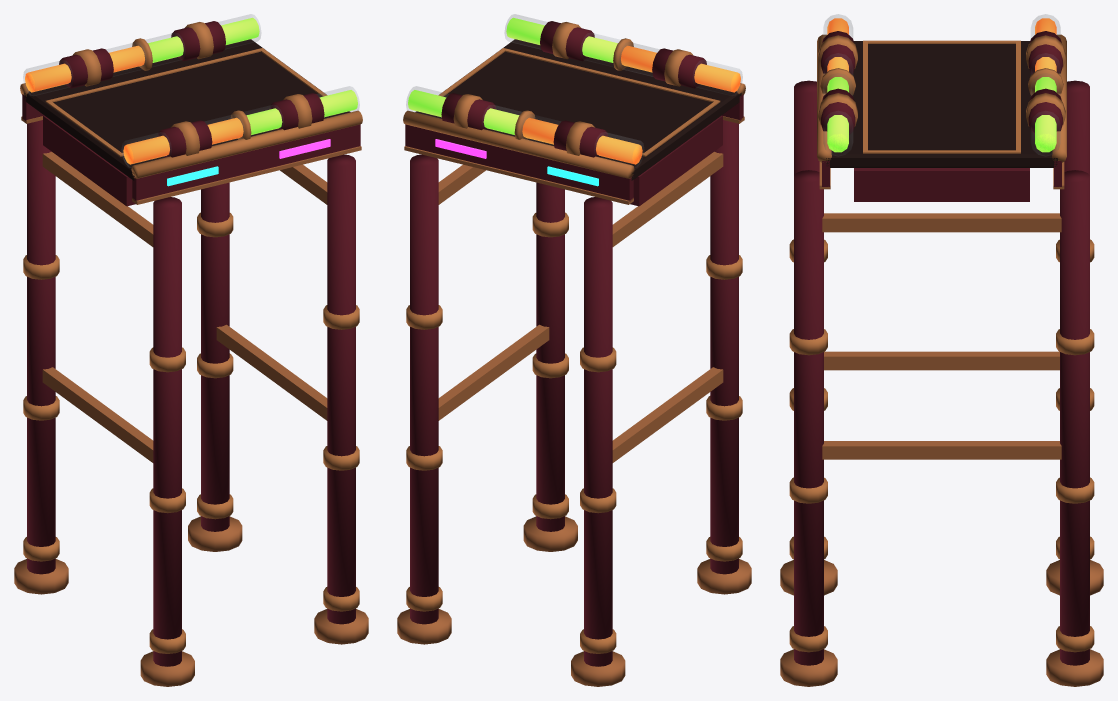
The model's file is Deck_Underpass_Span.glb.
3 views of the same model, side by side, from view 1: azimuth 30°, elevation 25°; view 2: azimuth 150°, elevation 25°; view 3: azimuth 270°, elevation 25° (orthographic). The views are drawn at different scales.
Visible parts, largest first — view 1: CP_Deck_Underpass_Span; view 2: CP_Deck_Underpass_Span; view 3: CP_Deck_Underpass_Span.
Boxes of the visible parts, x1=… form: CP_Deck_Underpass_Span: x1=14, y1=14, x2=368, y2=686; CP_Deck_Underpass_Span: x1=397, y1=14, x2=751, y2=686; CP_Deck_Underpass_Span: x1=780, y1=14, x2=1103, y2=686.
Size of the model in its own units: 4 by 9.09 by 4.74.
